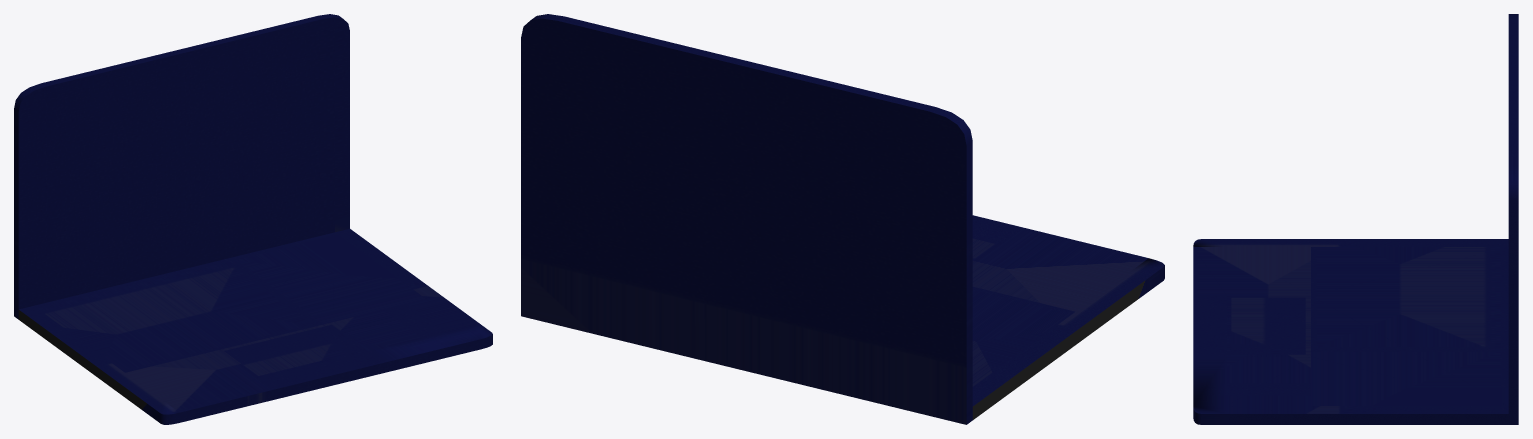
Rendered from DespachoDavid-Ordenador.fbx.
3 renders of one model, left to right at view 1: azimuth 30°, elevation 25°; view 2: azimuth 150°, elevation 25°; view 3: azimuth 270°, elevation 25°, orthographic. The views are drawn at different scales.
Parts seen in each view (by area): view 1: Laptop; view 2: Laptop; view 3: Laptop.
Part boxes in pixels (<box>): Laptop: <box>14,14,492,424</box>; Laptop: <box>521,14,1164,424</box>; Laptop: <box>1193,14,1518,424</box>.
Size of the model in its own units: 36.55 by 23.87 by 28.76.
